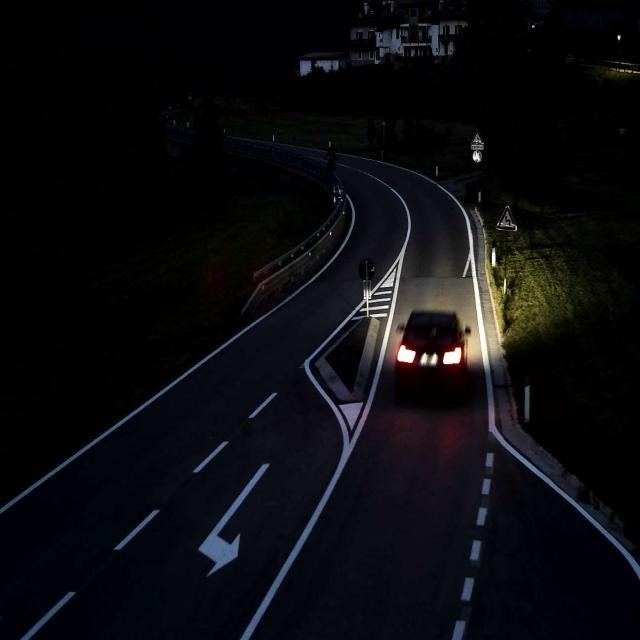car: (394, 309, 471, 396)
